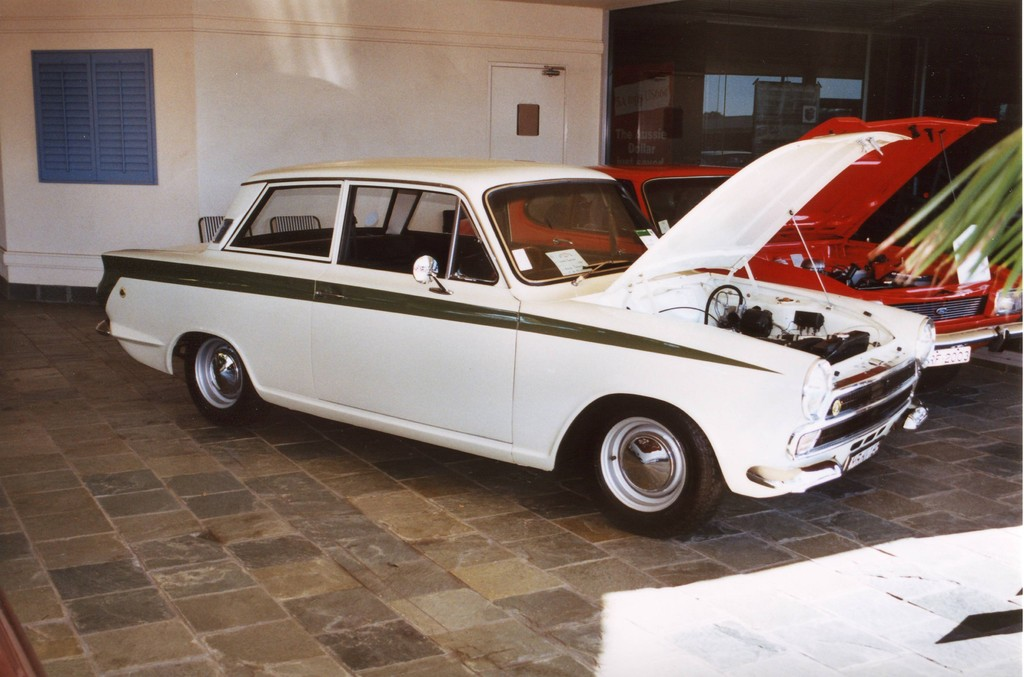Car: (99, 124, 937, 545), (454, 110, 1023, 382)
